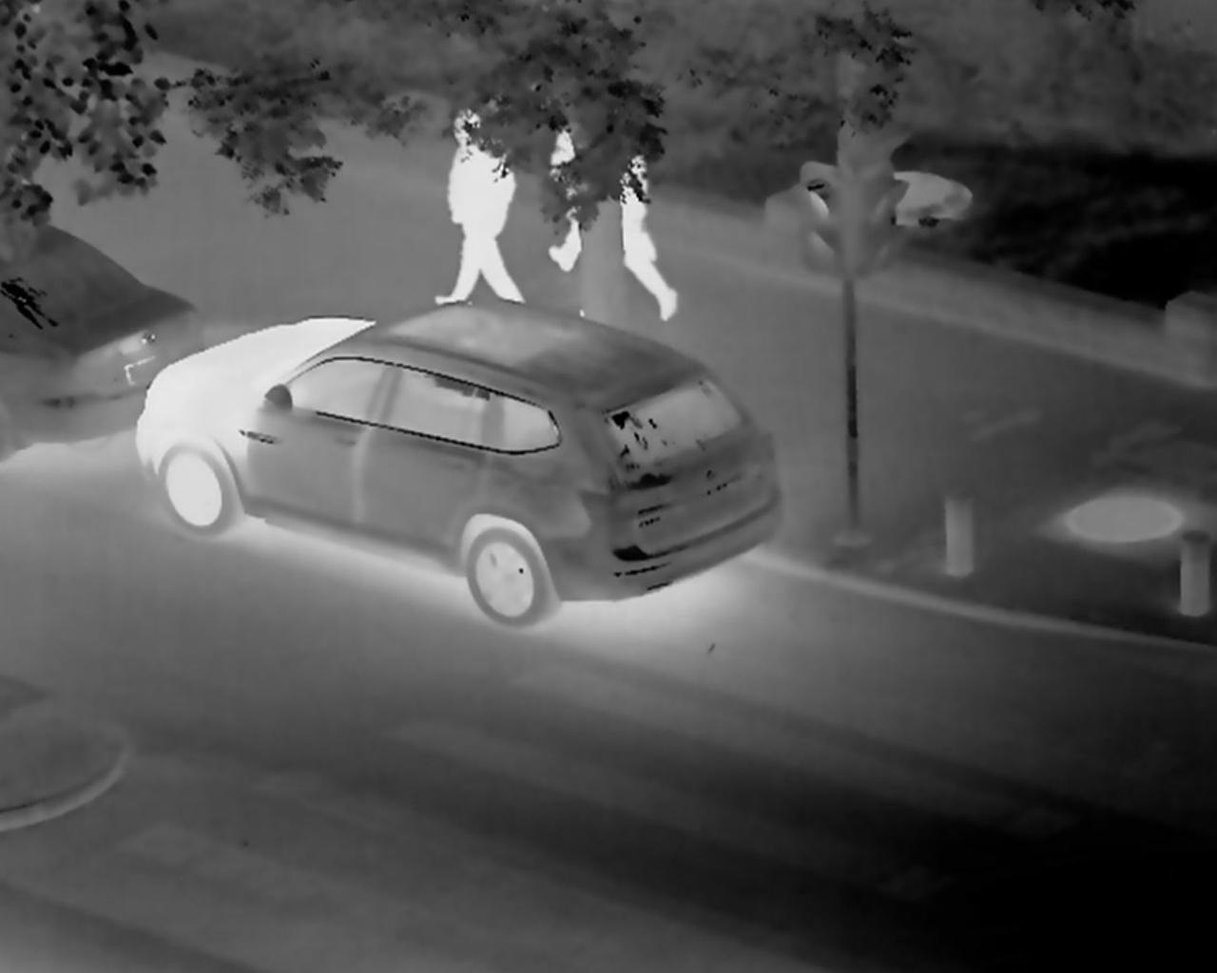person: (555, 143, 674, 344), (426, 108, 515, 322)
